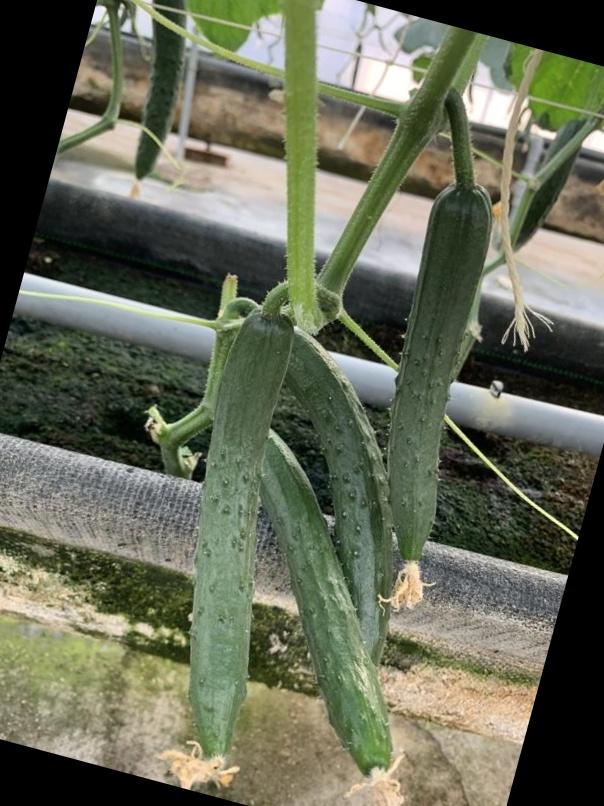mature: (257, 429, 411, 772), (182, 310, 295, 769), (386, 180, 494, 571), (279, 319, 388, 662)
